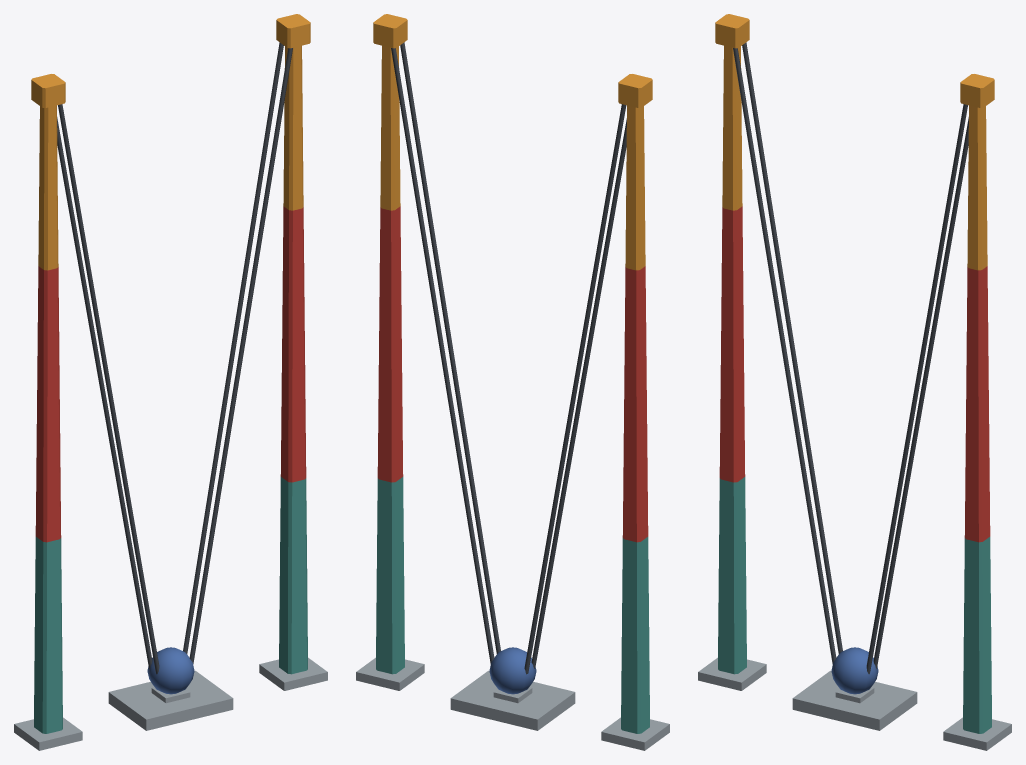
The model's file is nyc-slingshot.glb.
The picture shows the model from 3 angles, left to right: view 1: azimuth 30°, elevation 25°; view 2: azimuth 150°, elevation 25°; view 3: azimuth 330°, elevation 25°; orthographic projection.
Visible parts, largest first — view 1: Slingshot; view 2: Slingshot; view 3: Slingshot.
Boxes of the visible parts, x1,y1,x2,y2 form: Slingshot: [14, 14, 327, 750]; Slingshot: [356, 14, 669, 750]; Slingshot: [698, 14, 1011, 750].
Size of the model in its own units: 21.2 by 46 by 4.8.
